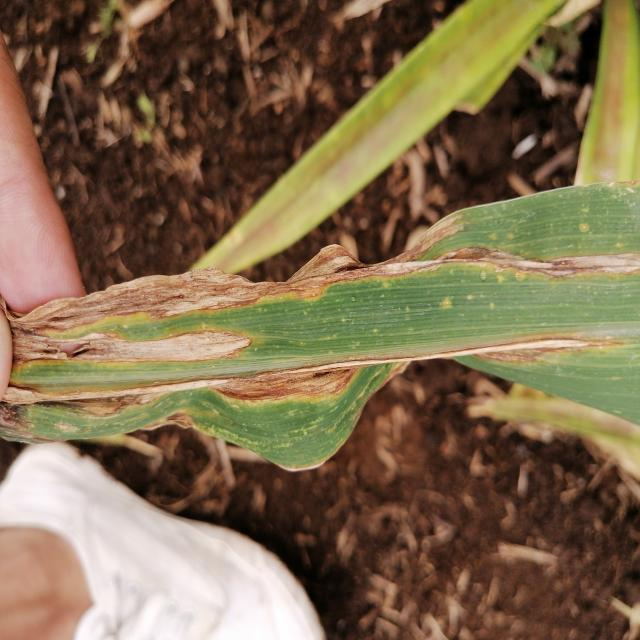Corn_Leaf_Blight: (0, 219, 640, 465)
